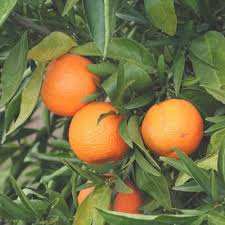orange: (139, 95, 206, 160), (69, 101, 136, 164), (37, 50, 100, 114), (75, 175, 147, 221)
